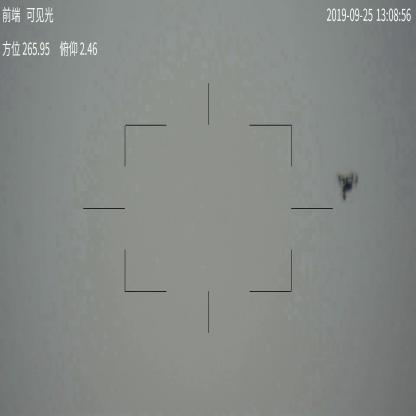uav: (337, 172, 359, 202)
